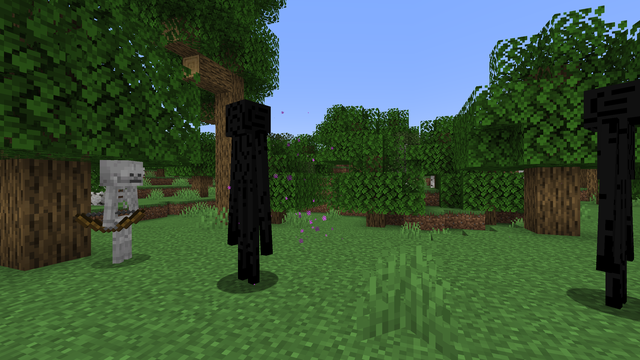endermens: (573, 73, 637, 314), (220, 92, 273, 290)
squelettes: (95, 160, 146, 266)
